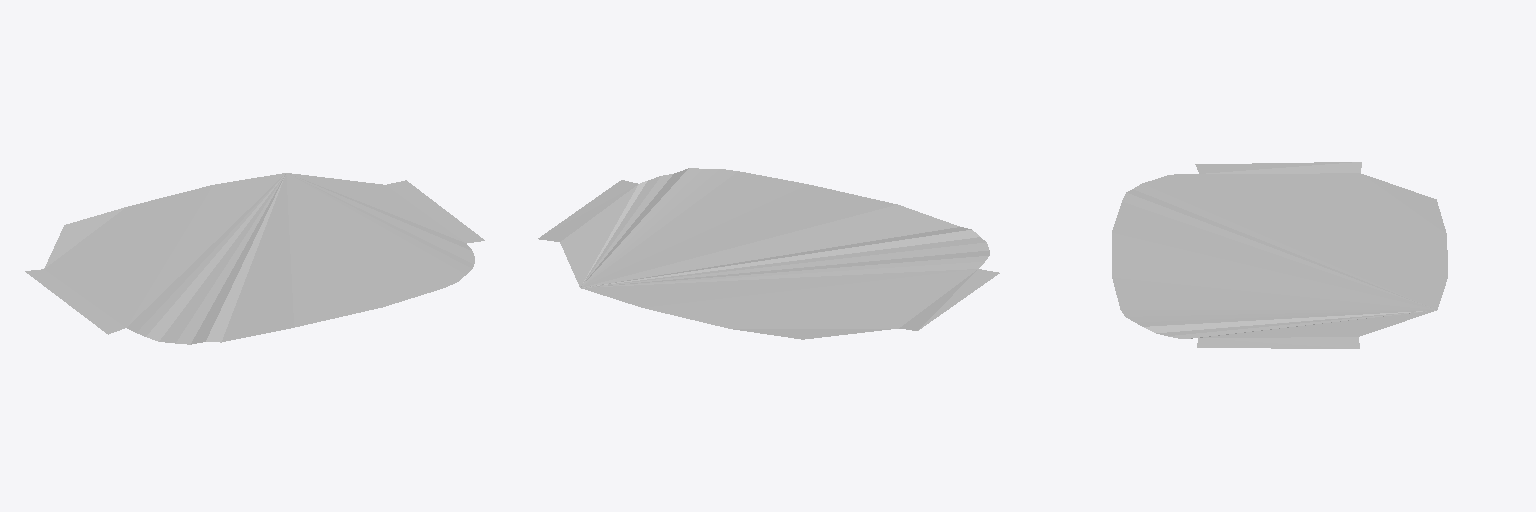
Rendered from original-8.obj.
3 views of the same model, side by side, from view 1: azimuth 30°, elevation 25°; view 2: azimuth 150°, elevation 25°; view 3: azimuth 270°, elevation 25° (orthographic).
Parts seen in each view (by area): view 1: mesh8/mesh8-geometry#mesh8-geometry; view 2: mesh8/mesh8-geometry#mesh8-geometry; view 3: mesh8/mesh8-geometry#mesh8-geometry.
Part boxes in pixels (left/top/right/bottom): mesh8/mesh8-geometry#mesh8-geometry: left=25, top=173, right=484, bottom=344; mesh8/mesh8-geometry#mesh8-geometry: left=538, top=168, right=999, bottom=339; mesh8/mesh8-geometry#mesh8-geometry: left=1112, top=162, right=1447, bottom=348.
Bounding box in the file's own units: 0.0277 × 0.0002 × 0.0212.